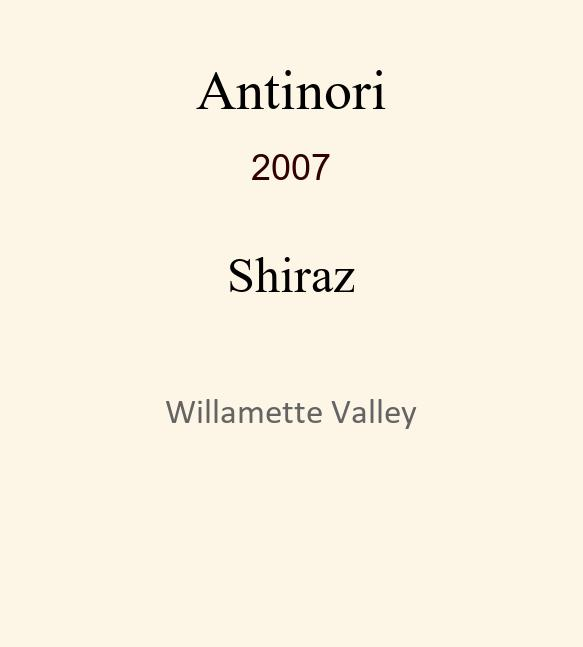brand: (196, 59, 387, 98)
region: (165, 396, 417, 426)
variety: (227, 247, 355, 282)
vintage: (251, 147, 331, 173)
